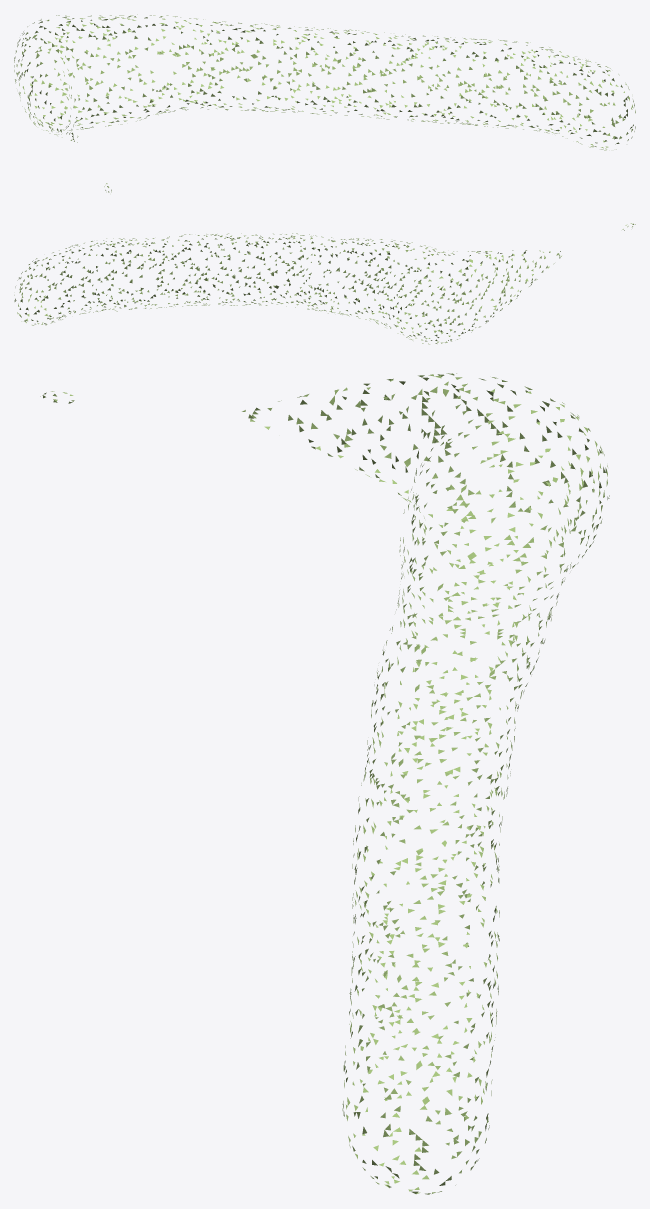
File: morph_012.glb
3 views of the same model, one above another, from view 1: azimuth 30°, elevation 25°; view 2: azimuth 150°, elevation 25°; view 3: azimuth 270°, elevation 25° (orthographic). The views are drawn at different scales.
Size of the model in its own units: 116 by 40.38 by 54.85.
